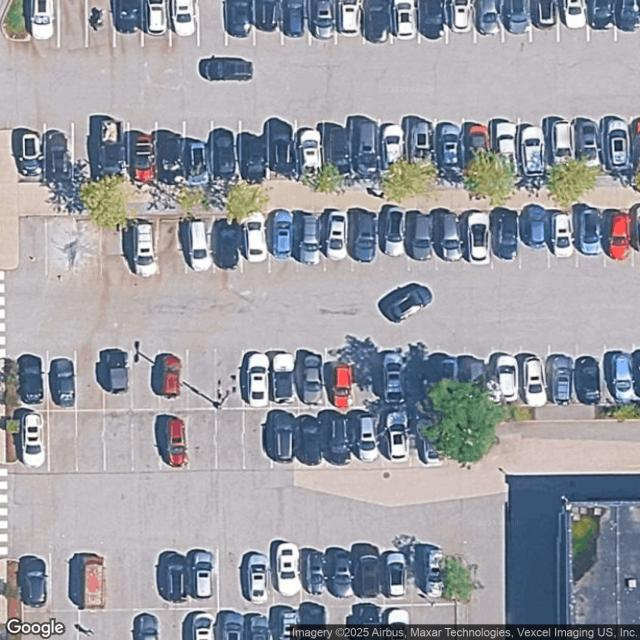car: (378, 283, 433, 323), (348, 114, 380, 178), (95, 119, 126, 181), (600, 115, 632, 175), (99, 346, 135, 396), (433, 120, 462, 180), (266, 410, 297, 465), (458, 210, 489, 263), (347, 208, 377, 262), (17, 555, 48, 607), (519, 202, 550, 254), (206, 128, 236, 181), (490, 207, 520, 260), (431, 208, 461, 261), (572, 203, 602, 256), (404, 210, 434, 261), (545, 353, 574, 405), (79, 553, 106, 608), (268, 350, 296, 403), (609, 351, 638, 402), (378, 204, 406, 256), (291, 210, 319, 262), (353, 542, 379, 598), (320, 410, 348, 462), (402, 115, 432, 163), (199, 56, 254, 82), (16, 354, 44, 405), (237, 131, 265, 182), (177, 136, 206, 185), (322, 547, 350, 597), (604, 210, 632, 260), (297, 351, 323, 404), (133, 222, 158, 277), (132, 131, 157, 186), (572, 116, 600, 165), (323, 127, 351, 176), (328, 360, 356, 409), (355, 411, 382, 461), (266, 210, 293, 260), (49, 358, 76, 407), (574, 355, 601, 404), (18, 412, 42, 467), (275, 544, 300, 596), (45, 129, 69, 183), (460, 120, 490, 163), (268, 130, 294, 179), (162, 554, 188, 603), (164, 414, 188, 467), (362, 0, 392, 42), (216, 221, 242, 269), (413, 423, 442, 466), (247, 354, 270, 408), (297, 128, 320, 182), (423, 544, 445, 600), (380, 550, 406, 597), (192, 548, 216, 598), (385, 410, 409, 460), (157, 353, 183, 399), (346, 602, 381, 636), (190, 217, 212, 271), (223, 0, 253, 39), (382, 351, 404, 403), (487, 118, 515, 158), (499, 1, 532, 34), (325, 213, 348, 260), (418, 1, 447, 38), (524, 125, 544, 177), (380, 123, 404, 166), (425, 352, 456, 385), (391, 0, 417, 39), (551, 213, 574, 257), (300, 548, 322, 594), (308, 1, 335, 38), (250, 0, 280, 32), (268, 605, 297, 638), (474, 1, 501, 36), (142, 0, 168, 36), (281, 0, 306, 37), (21, 127, 41, 173), (170, 1, 196, 36), (525, 357, 543, 407), (586, 0, 616, 30), (182, 611, 213, 640), (246, 217, 265, 264), (30, 1, 54, 38), (116, 3, 142, 37), (214, 610, 244, 639), (297, 602, 325, 632), (249, 556, 266, 604), (530, 1, 558, 30), (614, 0, 640, 31), (447, 1, 472, 33), (131, 612, 160, 639), (335, 1, 358, 35), (553, 120, 573, 158), (382, 606, 409, 634), (457, 354, 484, 382), (243, 612, 268, 639), (498, 362, 516, 399), (562, 1, 586, 28)
lot_boundary: (0, 0, 639, 186)
